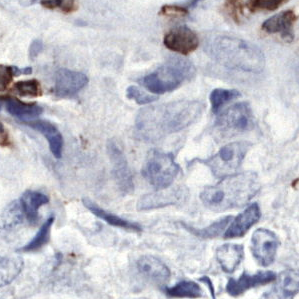Lymphocyte: (164, 27, 199, 55)
